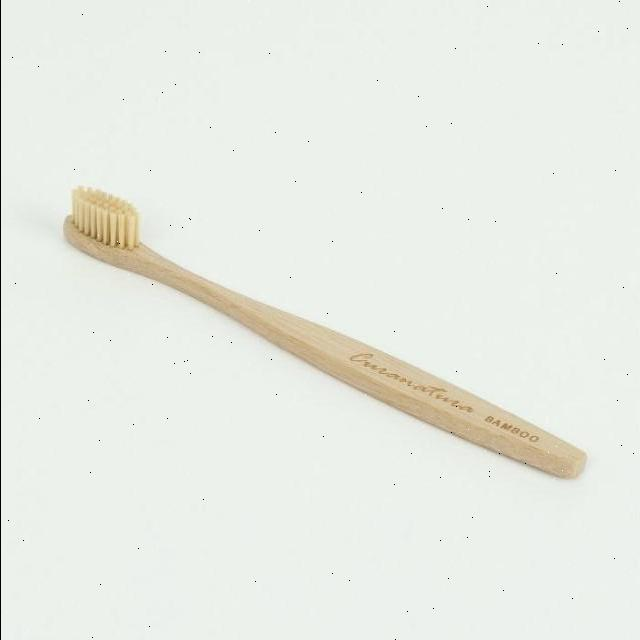toothbrush: (14, 164, 622, 496)
